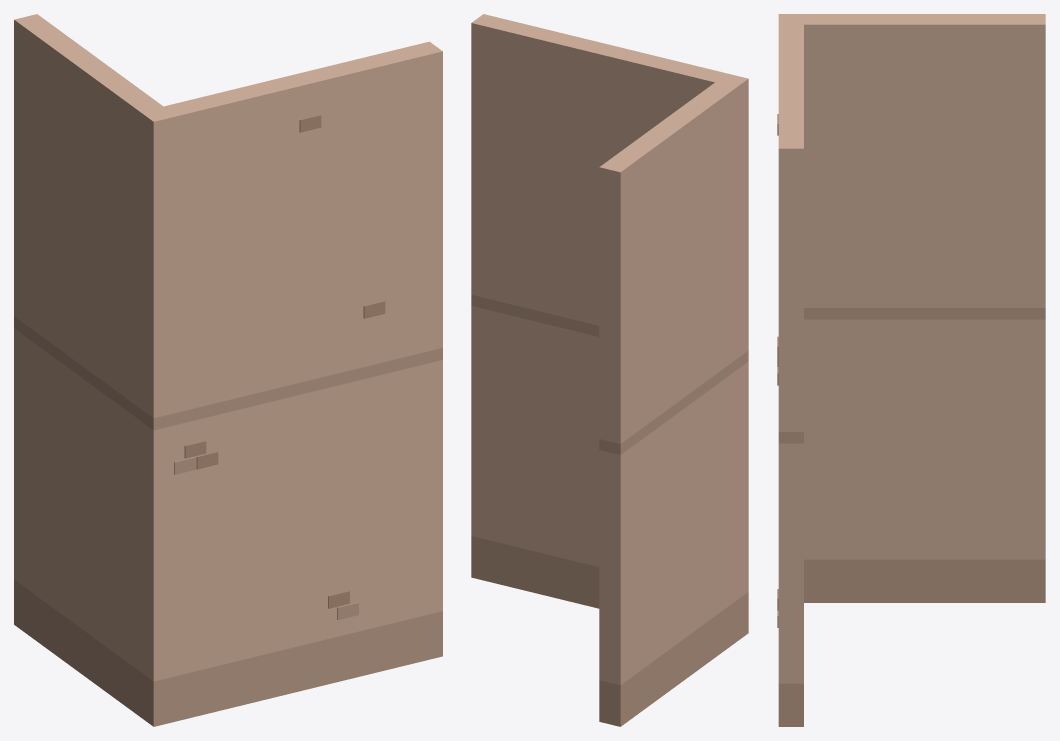
The model's file is Wall_14.fbx.
The picture shows the model from 3 angles, left to right: view 1: azimuth 30°, elevation 25°; view 2: azimuth 150°, elevation 25°; view 3: azimuth 270°, elevation 25°; orthographic projection. The views are drawn at different scales.
Parts seen in each view (by area): view 1: Wall_14; view 2: Wall_14; view 3: Wall_14.
Part boxes in pixels (left/top/right/bottom): Wall_14: left=14, top=14, right=442, bottom=726; Wall_14: left=471, top=14, right=748, bottom=726; Wall_14: left=777, top=14, right=1045, bottom=726.
Bounding box in the file's own units: 500 × 1000 × 420.
